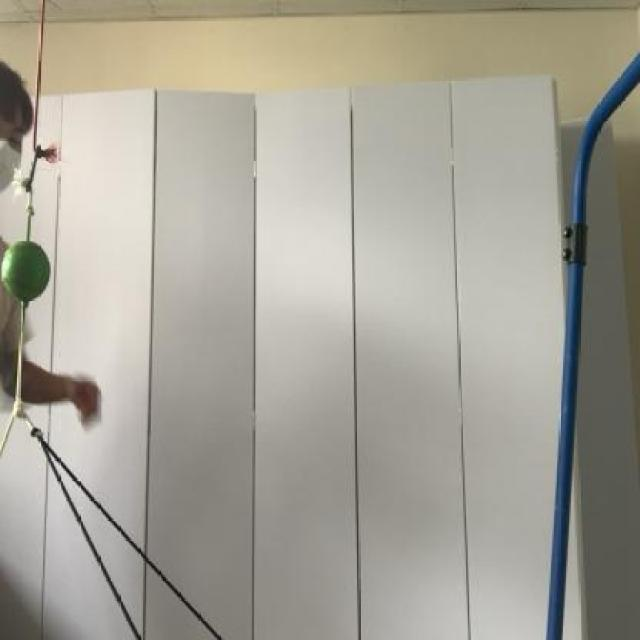baseball: (0, 232, 54, 310)
